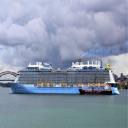cruises: (8, 59, 121, 99)
